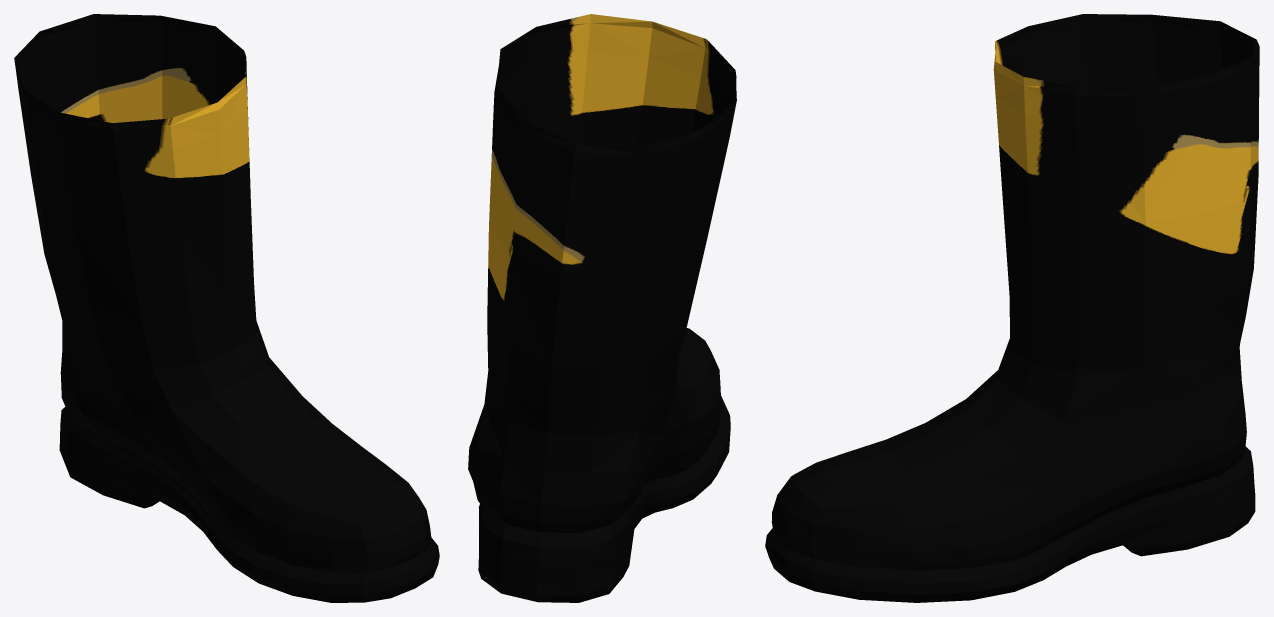
The model's file is boots.OBJ.
3 views of the same model, side by side, from view 1: azimuth 30°, elevation 25°; view 2: azimuth 150°, elevation 25°; view 3: azimuth 270°, elevation 25° (orthographic). The views are drawn at different scales.
Parts seen in each view (by area): view 1: Group1; view 2: Group1; view 3: Group1.
Boxes of the visible parts, left/top/right/bottom form: Group1: left=14, top=14, right=439, bottom=602; Group1: left=468, top=14, right=736, bottom=602; Group1: left=765, top=14, right=1259, bottom=602.
Size of the model in its own units: 20.84 by 34.04 by 31.58.
